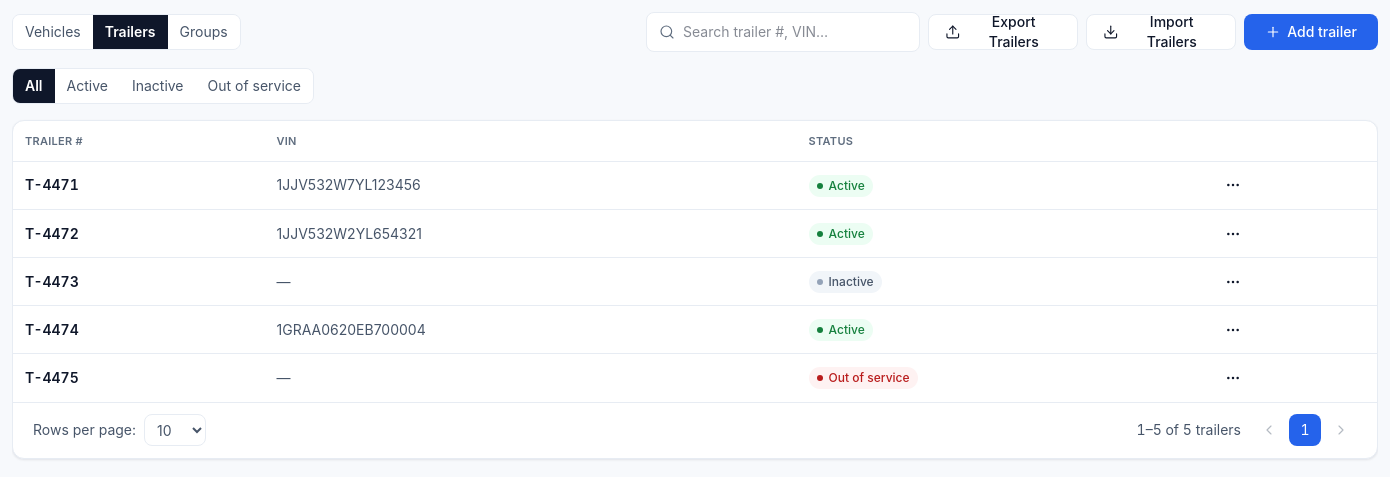
Test case: Trailers list (server-side) › sends the status filter
expect the text "T-4471" is shown: met, box [25,176,79,193]
Click the button "Inactive" at x=158, y=86, box [120,69,196,103]
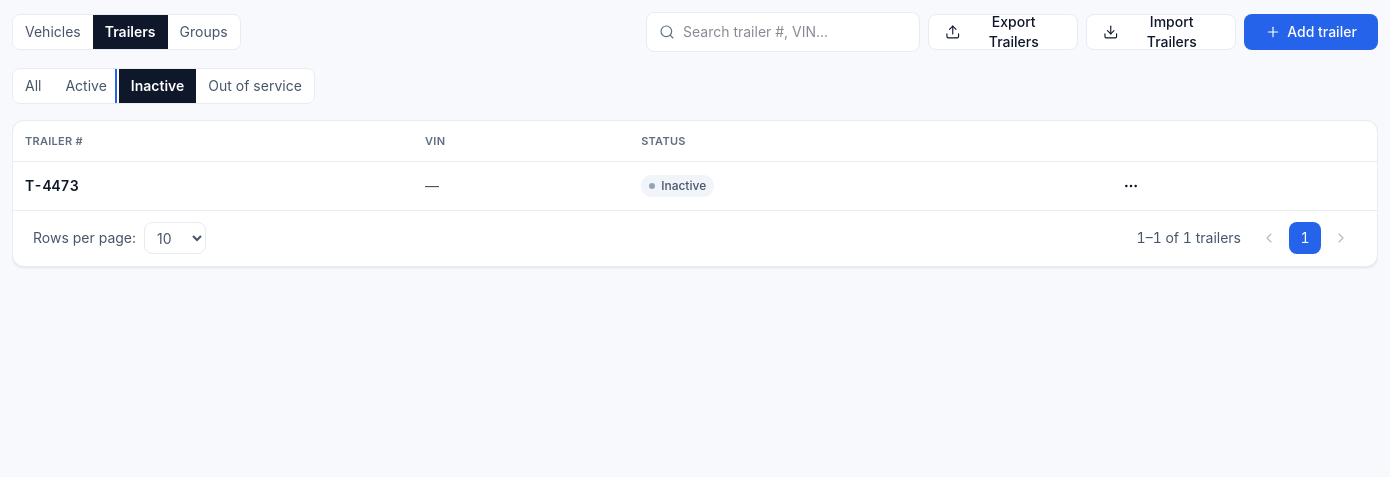
expect the text "T-4473" is shown: met, box [25,176,79,194]
expect the text "T-4471" is gone: met
